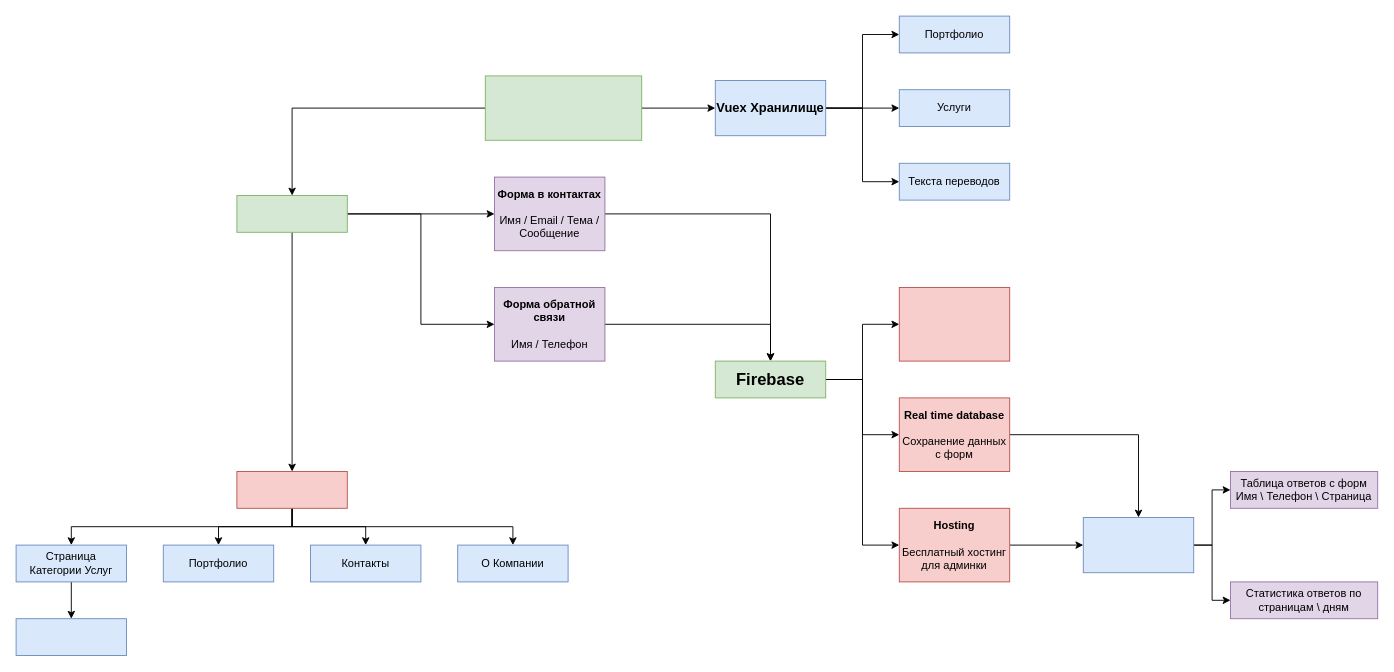
Image size: 1394x672. Some labels were removed from this diagram. Here are the shapes that lost their labels. From the top down, the box of each, then its label:
(484, 75, 642, 140): Nuxt Static Site Generator
(236, 195, 347, 232): САЙТ
(898, 287, 1010, 361): Cloud functions Отправка писем на имейл
(236, 471, 347, 508): Главная
(1082, 517, 1194, 573): Админка
(15, 618, 126, 656): Страница Услуги
